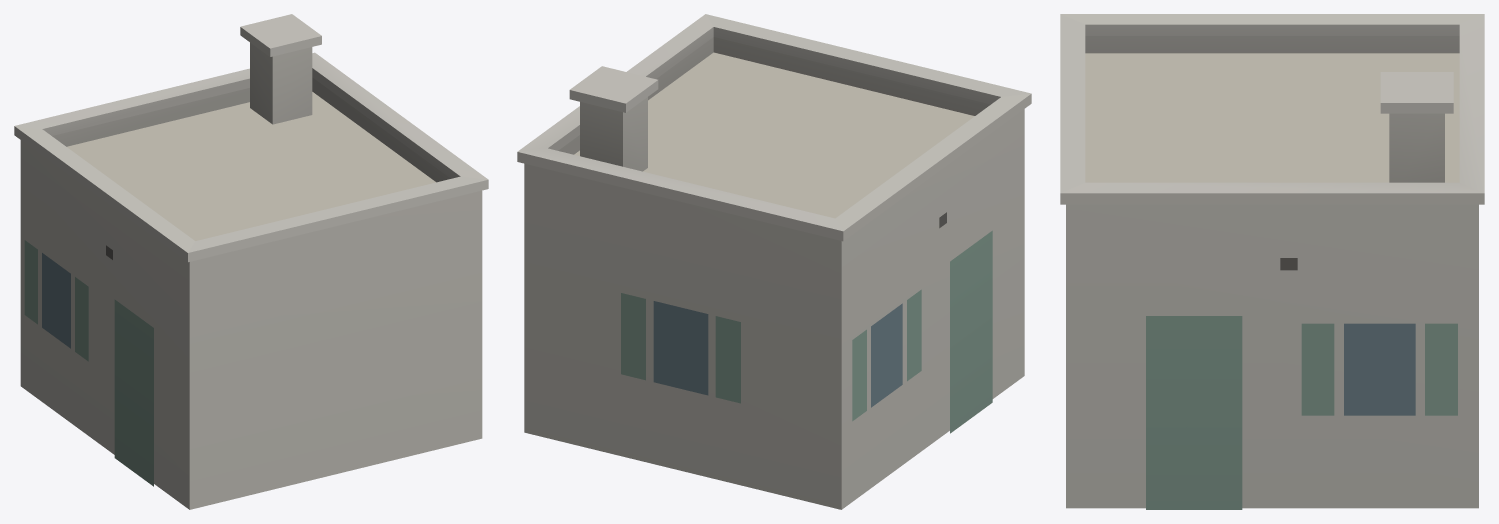
3 views of the same model, side by side, from view 1: azimuth 30°, elevation 25°; view 2: azimuth 150°, elevation 25°; view 3: azimuth 270°, elevation 25° (orthographic). The views are drawn at different scales.
Bounding box in the file's own units: 4.4 × 4.42 × 4.4.
